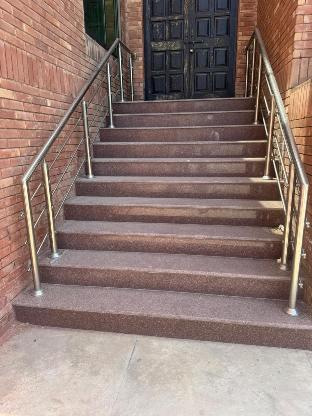door: (100, 85, 272, 368)
